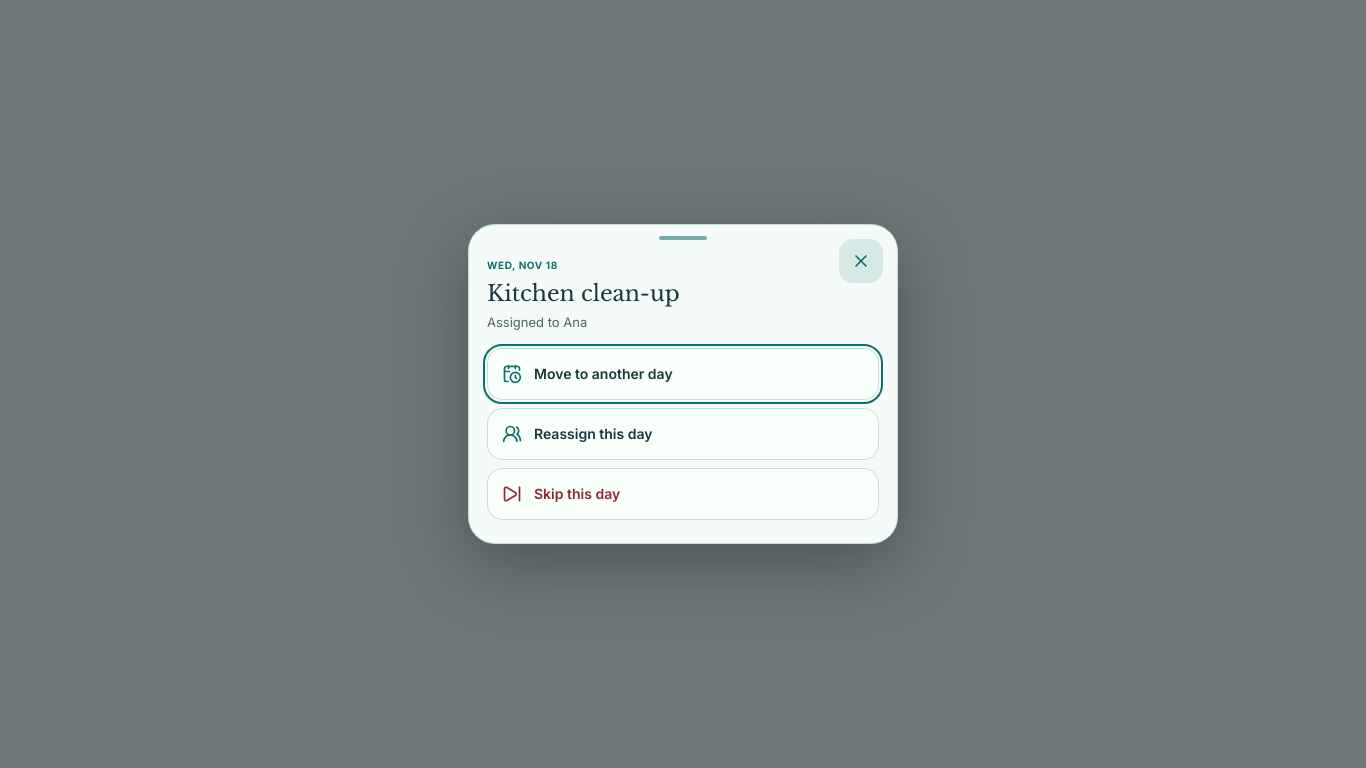
Test: OccurrenceActionSheet › asks before skipping
Later steps or results of the test are not shown.
Click the button "Skip this day".
click(577, 494)  # box [487, 468, 879, 520]
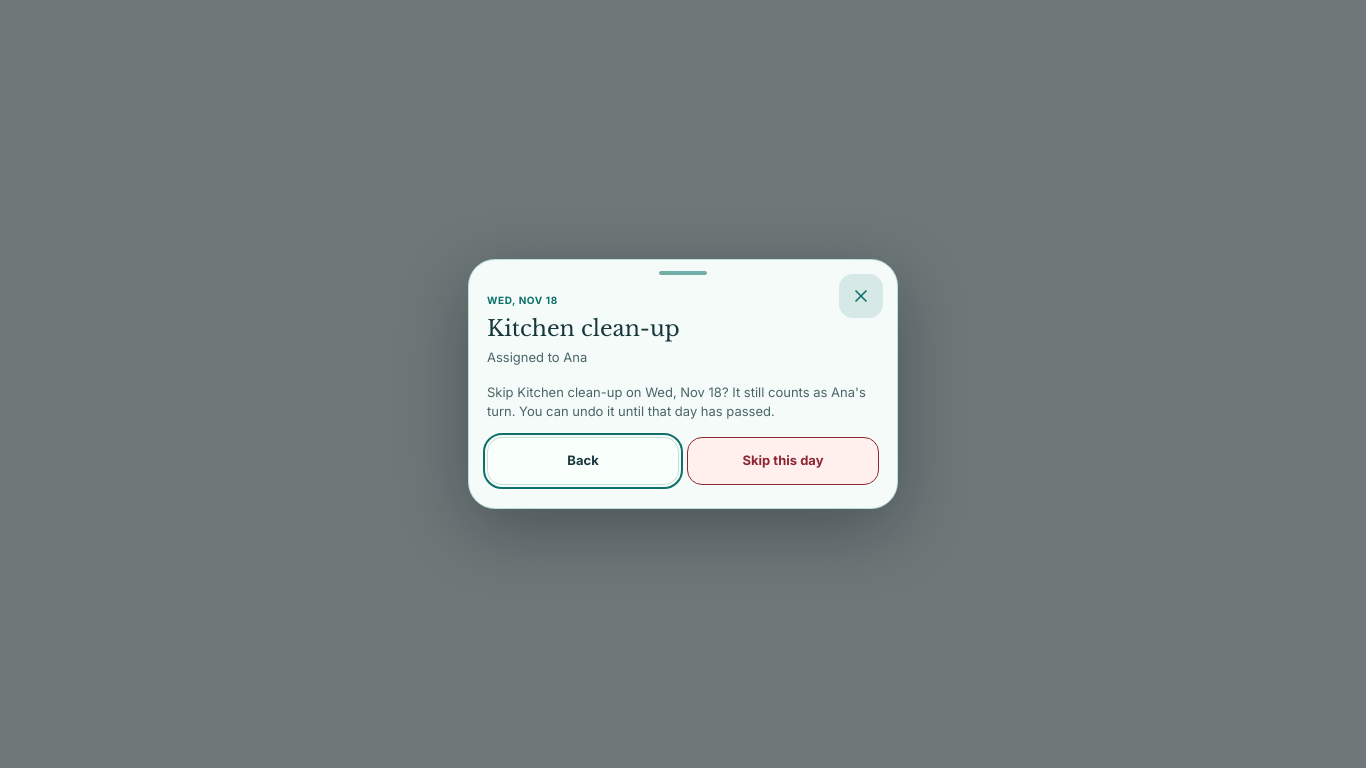
Now the dialog "Kitchen clean-up" shows "Skip Kitchen clean-up on Wed, Nov 18? It still counts as Ana's turn.", box [468, 259, 898, 508]
